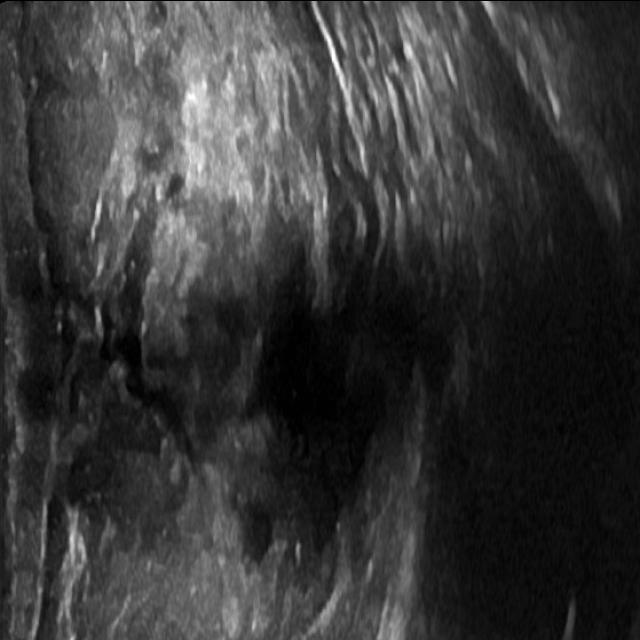Malignant: (238, 258, 420, 500)
